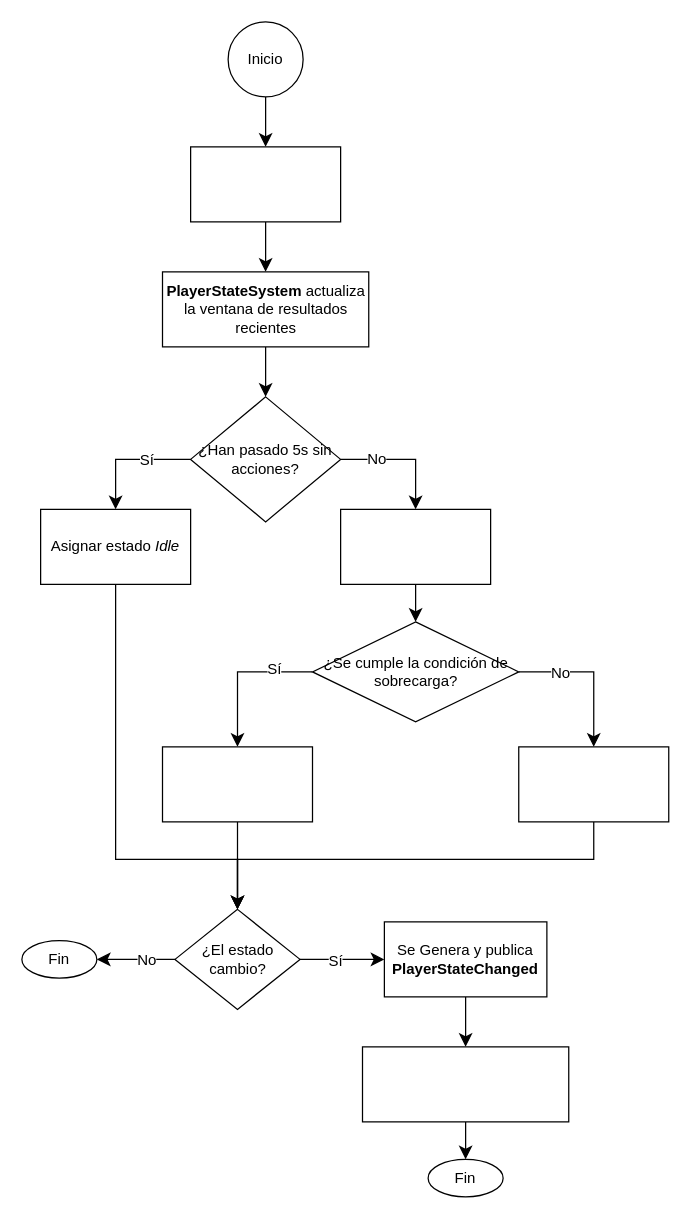
The diagram is 691 pixels wide and 1219 high, and some of its shapes have lost their labels. The box of each missing label's shape, as (x1, y1, x2, y2) in pixels:
Asignar estado Engaged: (518, 746, 669, 822)
Asignar estado Overloaded: (161, 746, 312, 822)
DynamicDifficultySystem: (361, 1046, 569, 1122)
Evaluar errores y omisiones recientes: (339, 508, 491, 584)
InteractionResult envia el resultado: (189, 146, 341, 222)
